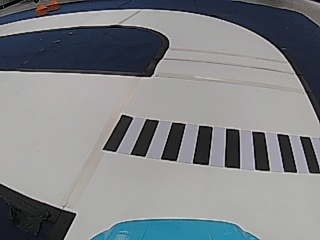CrossWalk: (101, 116, 319, 174)
